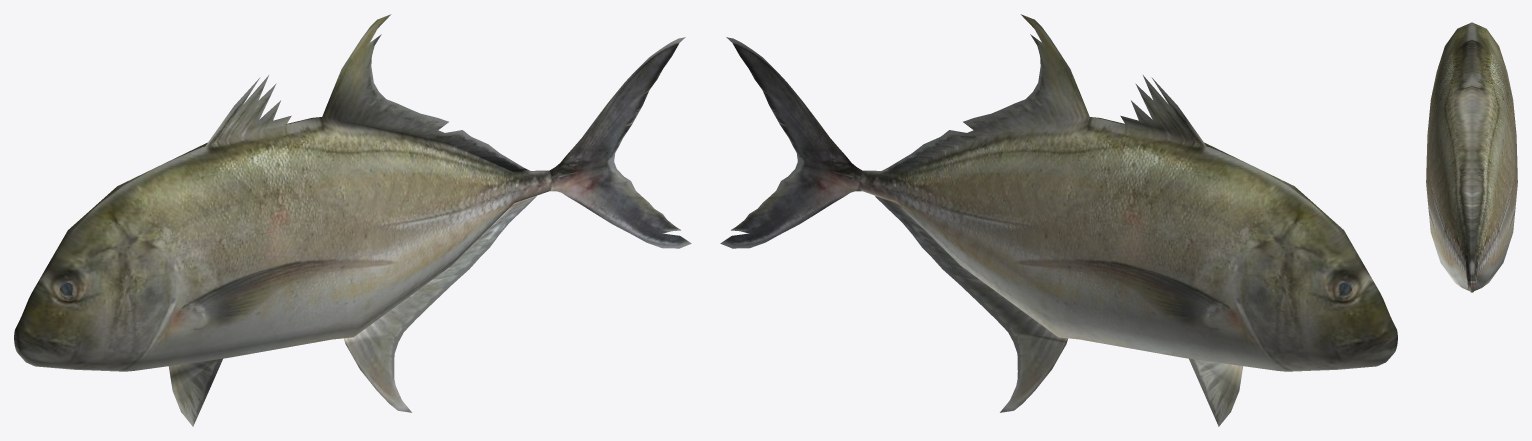
File: rounin.dae
3 views of the same model, side by side, from view 1: azimuth 30°, elevation 25°; view 2: azimuth 150°, elevation 25°; view 3: azimuth 270°, elevation 25° (orthographic). The views are drawn at different scales.
Visible parts, largest first — view 1: Cylinder; view 2: Cylinder; view 3: Cylinder.
Boxes of the visible parts, left/top/right/bottom form: Cylinder: left=14, top=14, right=691, bottom=426; Cylinder: left=720, top=14, right=1397, bottom=426; Cylinder: left=1426, top=22, right=1517, bottom=292.
Bounding box in the file's own units: 7.41 × 4.24 × 1.02.
Materials: 1 (1 with a texture image).
